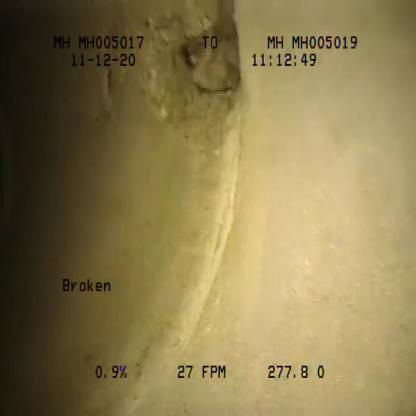Hole: (138, 0, 270, 122)
